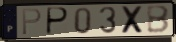0: (73, 7, 93, 35)
3: (98, 6, 117, 36)
B: (146, 5, 171, 35)
P: (45, 6, 70, 36), (21, 7, 43, 36)
X: (120, 5, 147, 35)
